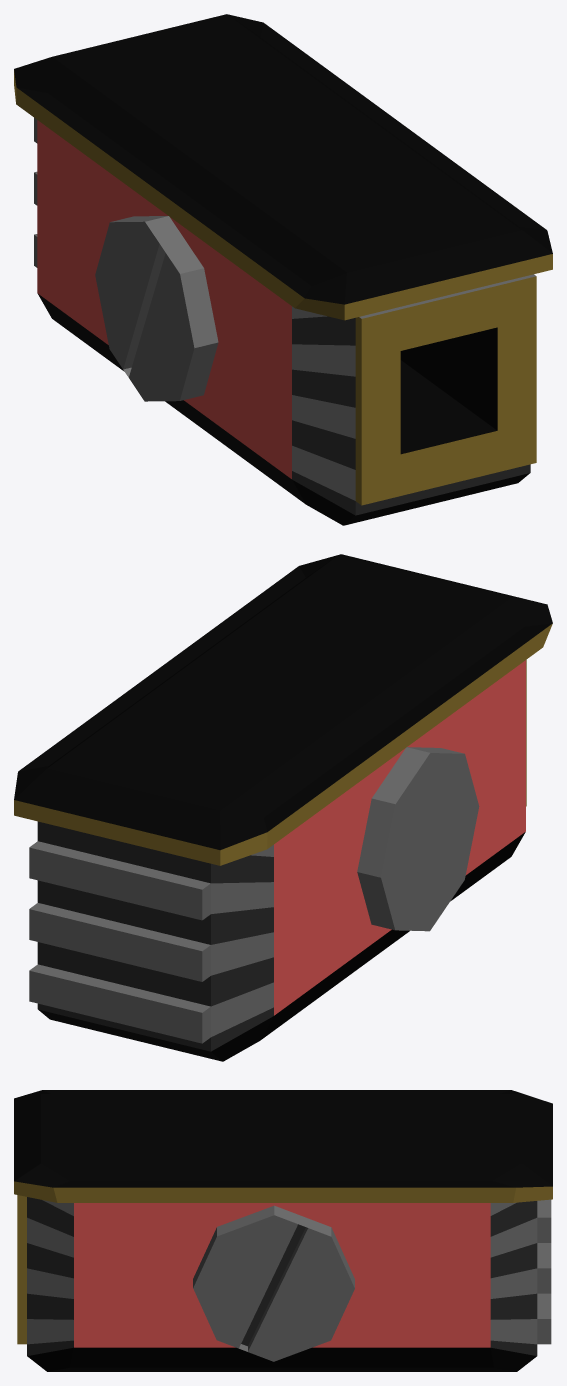
Rendered from Submarine-Shark-v2c-trigger.fbx.
3 views of the same model, one above another, from view 1: azimuth 30°, elevation 25°; view 2: azimuth 150°, elevation 25°; view 3: azimuth 270°, elevation 25° (orthographic). The views are drawn at different scales.
Visible parts, largest first — view 1: Cube; view 2: Cube; view 3: Cube.
Boxes of the visible parts, x1,y1,x2,y2 form: Cube: (14,14,552,525); Cube: (14,554,552,1061); Cube: (14,1090,552,1371).
Size of the model in its own units: 61.12 by 52.31 by 123.
